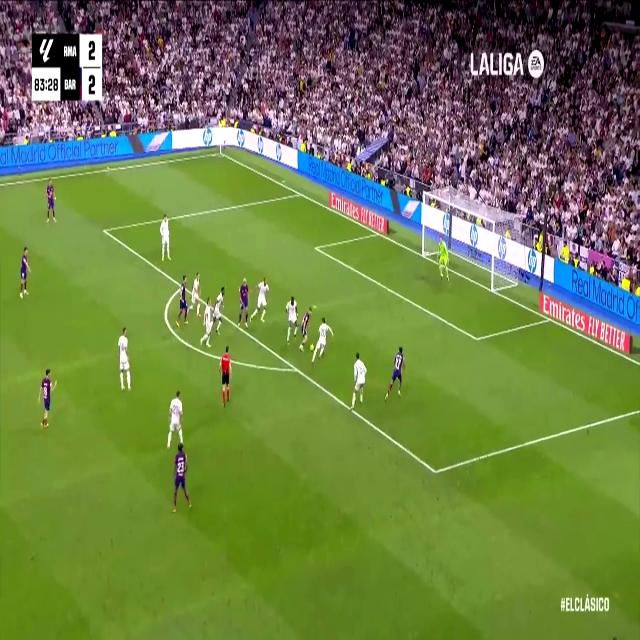bigarea_bottom_inner: (429, 456, 441, 485)
bigarea_top_inner: (99, 220, 109, 240)
bigarea_top_outter: (294, 185, 304, 200)
bottom_arc_area_intersection: (291, 359, 300, 376)
corner: (216, 147, 224, 158)
smallarea_bottom_inner: (472, 328, 482, 349)
smallarea_top_inner: (313, 240, 319, 254)
top_arc_area_intersection: (178, 280, 184, 293)
